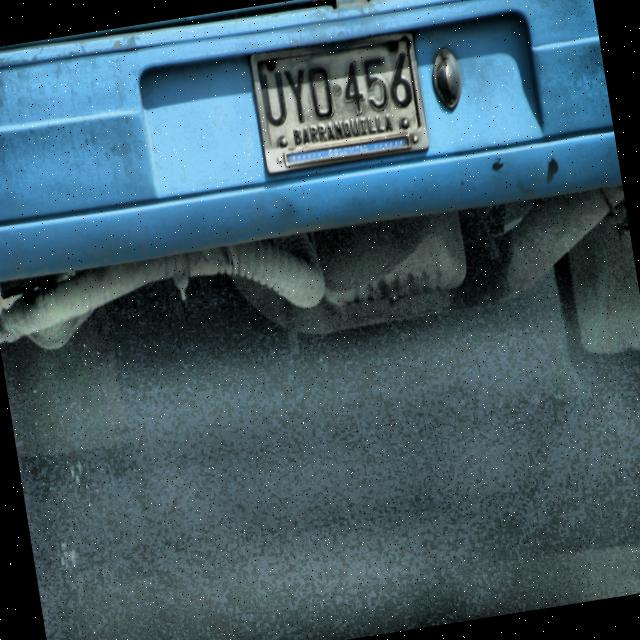plate: (250, 31, 429, 174)
